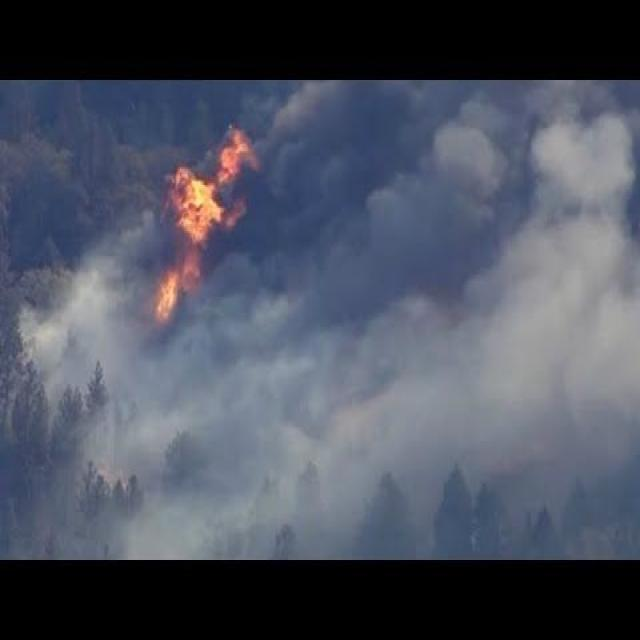Fire: (203, 124, 255, 225), (156, 242, 207, 321), (177, 173, 223, 242)
Smoke: (288, 80, 640, 562)
